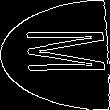M_E: (5, 32, 105, 78)
